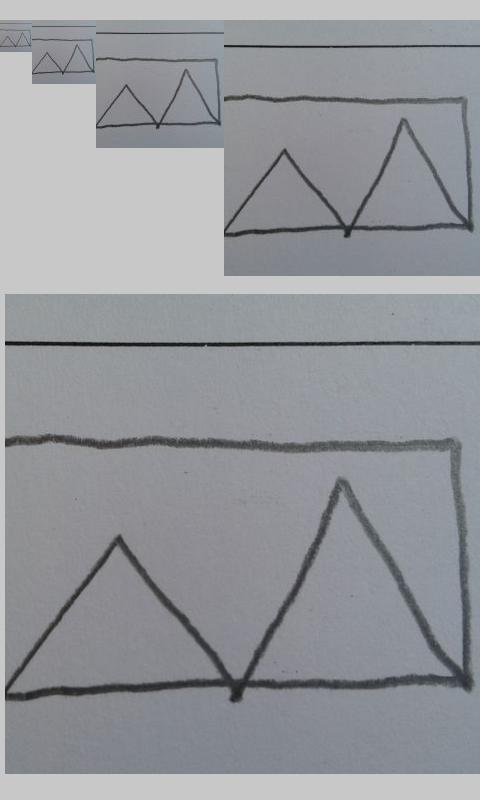image_view: (12, 430, 473, 697), (226, 93, 475, 239), (97, 54, 222, 130), (32, 36, 95, 75), (1, 28, 31, 48)
